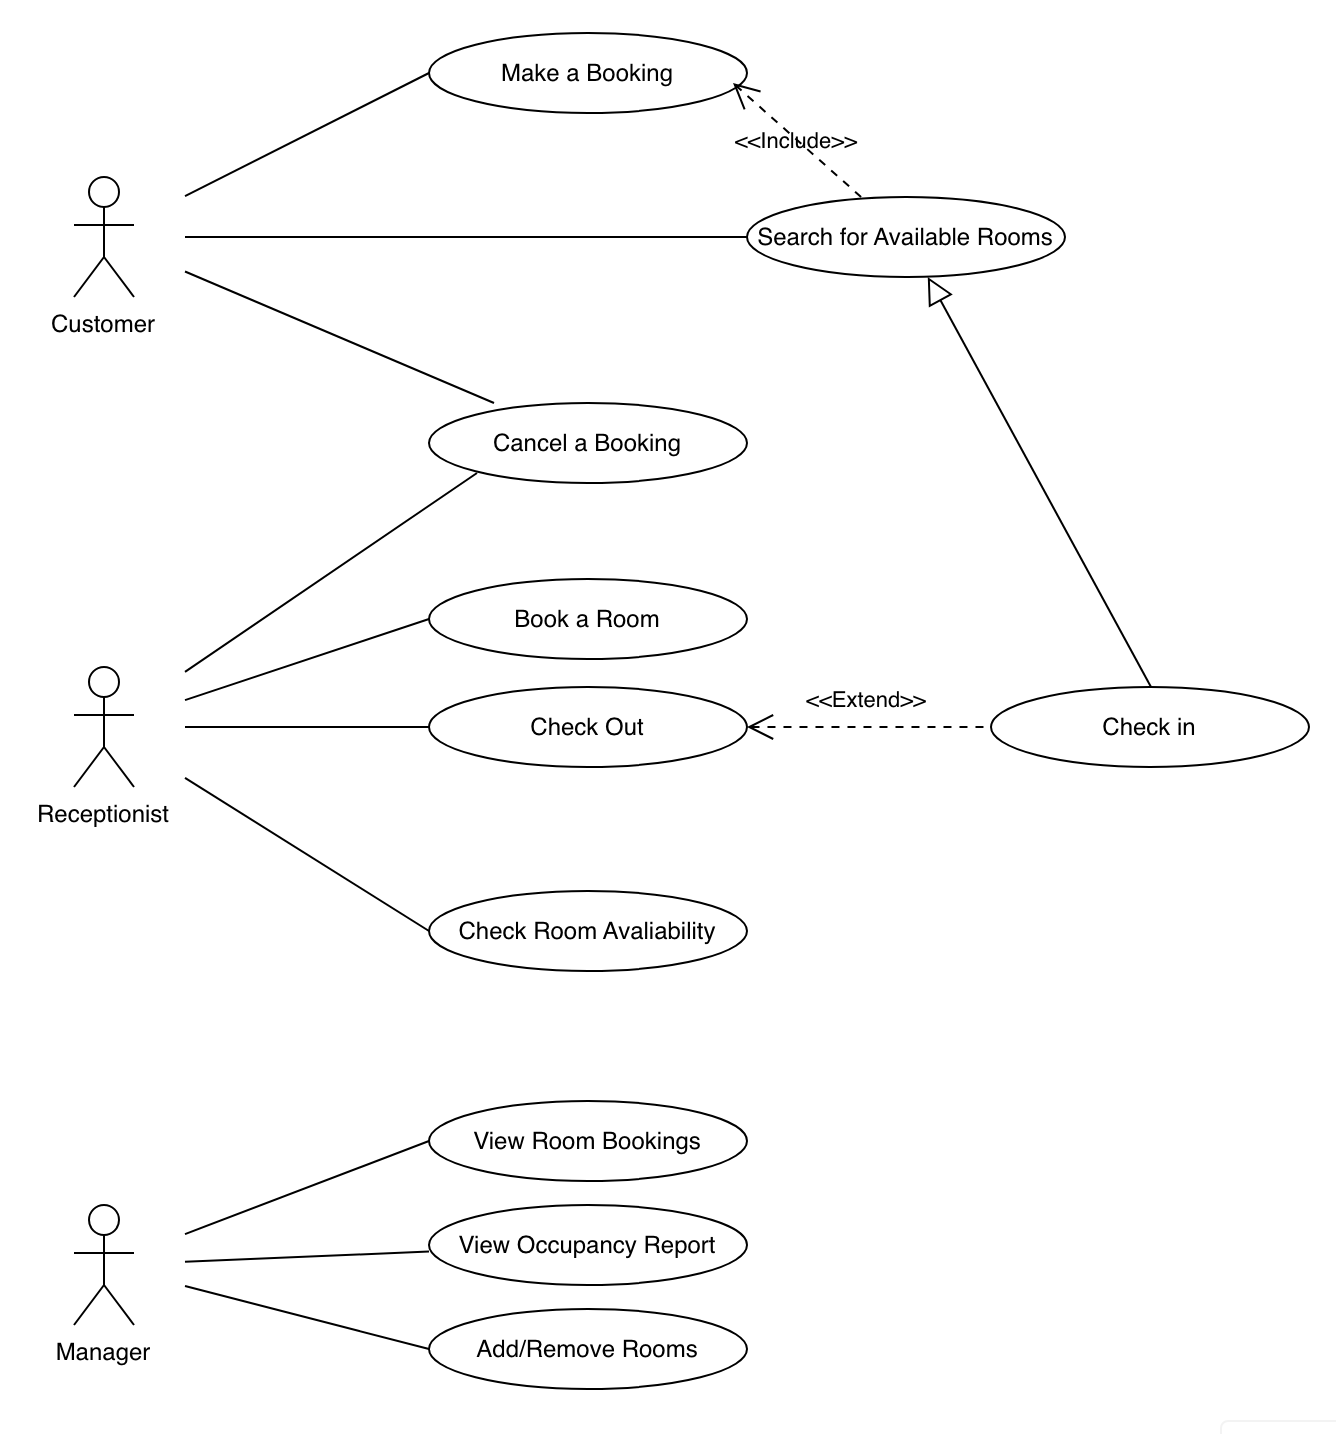actor: (62, 172, 143, 305), (64, 1205, 146, 1339), (63, 663, 137, 794)
association: (925, 276, 1145, 681), (187, 471, 476, 674), (182, 265, 488, 402), (185, 779, 427, 933), (187, 69, 424, 197), (182, 1143, 429, 1241), (181, 613, 429, 703), (185, 1282, 428, 1352), (175, 221, 748, 249), (732, 83, 859, 197), (746, 712, 989, 748), (181, 716, 428, 741), (173, 1253, 434, 1263)
text: (753, 213, 1052, 256), (456, 1227, 714, 1266), (467, 1119, 704, 1158), (493, 46, 682, 93), (486, 422, 683, 463), (455, 915, 719, 946), (470, 1334, 704, 1364), (28, 797, 177, 836), (501, 600, 663, 633), (1086, 704, 1205, 746), (802, 682, 935, 716), (719, 123, 861, 154), (51, 304, 159, 339), (48, 1334, 156, 1369), (525, 709, 645, 741)
use_case: (988, 682, 1312, 768), (429, 1200, 747, 1287), (748, 196, 1065, 281), (428, 578, 751, 660), (424, 402, 746, 483), (433, 1100, 750, 1183), (433, 684, 747, 767), (431, 31, 746, 113), (429, 1307, 747, 1388), (433, 890, 748, 971)
